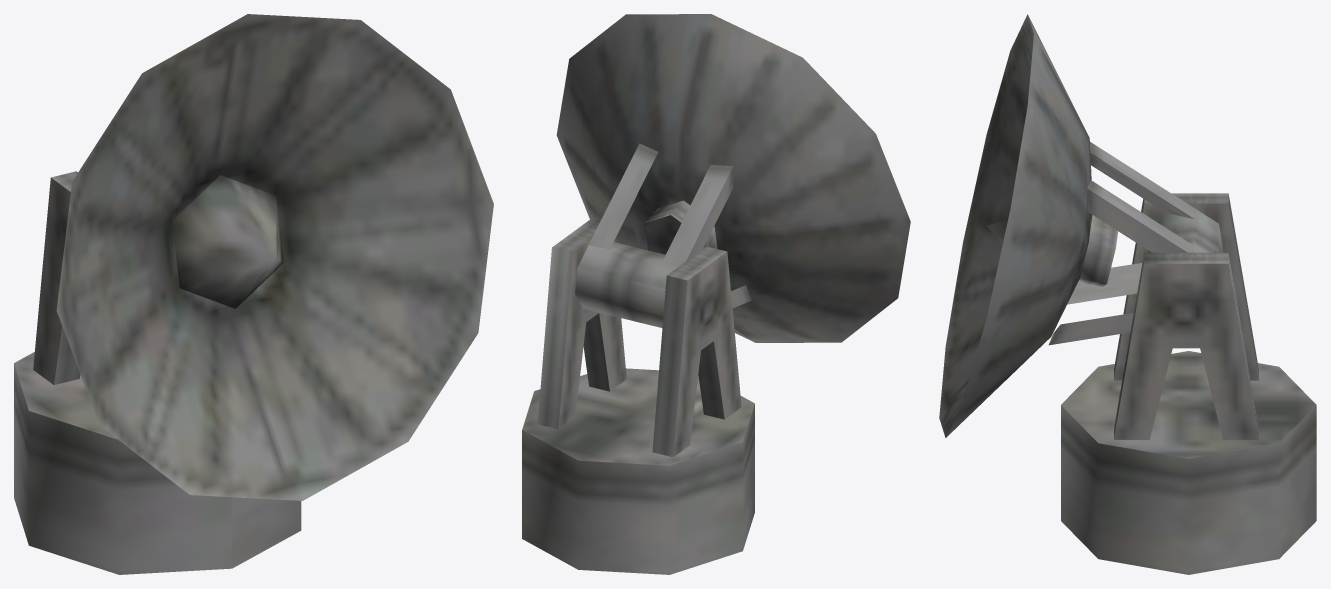
The model's file is ykl37r_radar_s01_l2.fbx.
The picture shows the model from 3 angles, left to right: view 1: azimuth 30°, elevation 25°; view 2: azimuth 150°, elevation 25°; view 3: azimuth 270°, elevation 25°; orthographic projection. The views are drawn at different scales.
Parts seen in each view (by area): view 1: mesh_node; view 2: mesh_node; view 3: mesh_node.
Boxes of the visible parts, <box> form: mesh_node: <box>14,14,493,574</box>; mesh_node: <box>522,14,910,574</box>; mesh_node: <box>939,14,1316,574</box>.
Size of the model in its own units: 3.01 by 3.73 by 2.62.
1 material, 1 textured.
